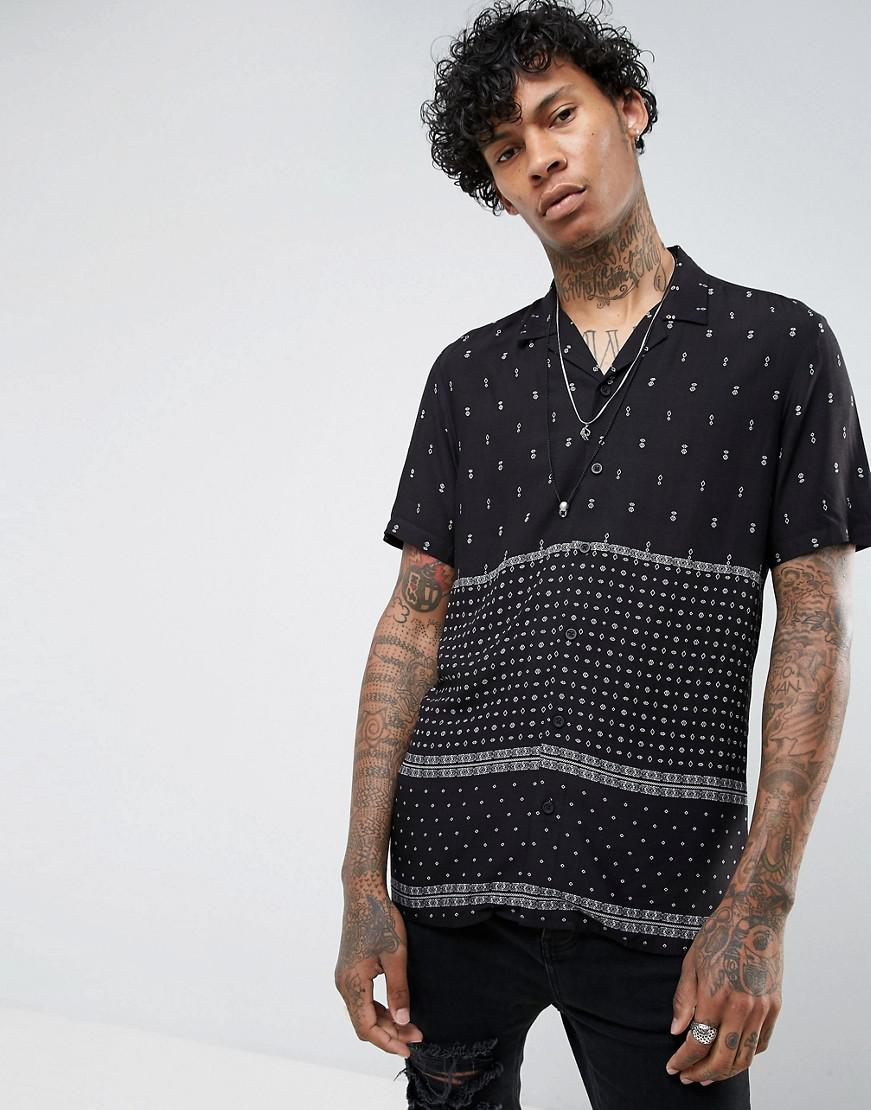teeshirt: (371, 246, 871, 963)
